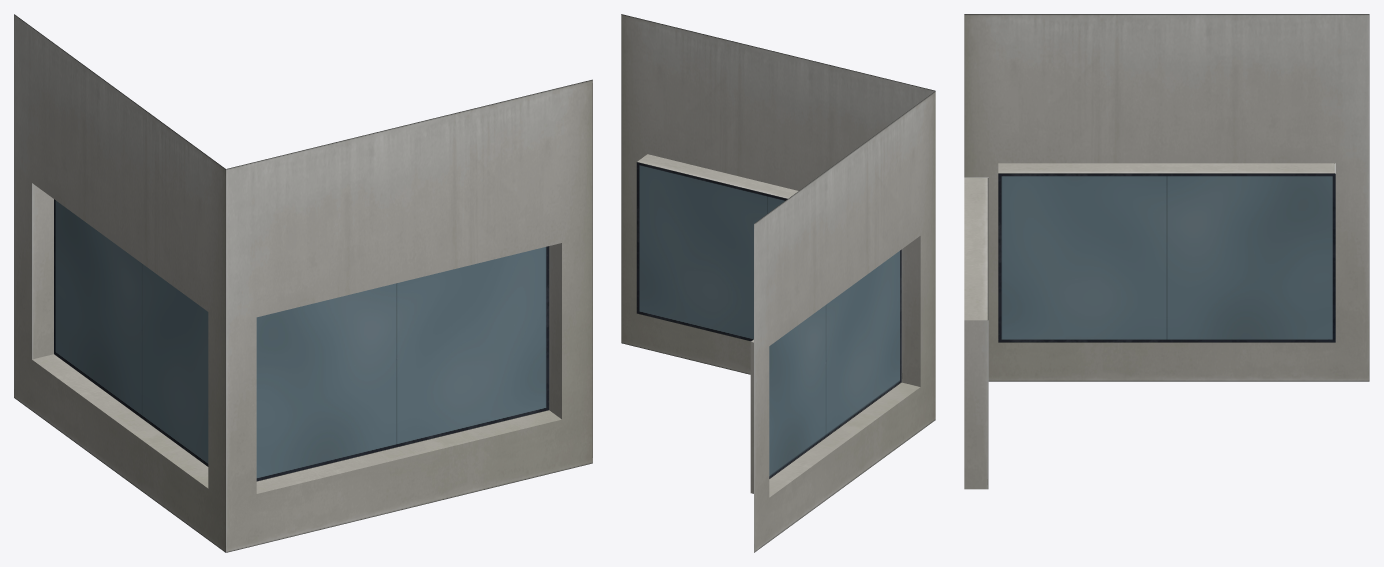
Rendered from corner_window_off_floor.gltf.
3 renders of one model, left to right at view 1: azimuth 30°, elevation 25°; view 2: azimuth 150°, elevation 25°; view 3: azimuth 270°, elevation 25°, orthographic. The views are drawn at different scales.
Visible parts, largest first — view 1: corner_window_off_floor; view 2: corner_window_off_floor; view 3: corner_window_off_floor.
Boxes of the visible parts, left/top/right/bottom form: corner_window_off_floor: left=14, top=14, right=592, bottom=552; corner_window_off_floor: left=621, top=14, right=935, bottom=552; corner_window_off_floor: left=964, top=14, right=1369, bottom=489.
Bounding box in the file's own units: 5 × 5 × 5.
Materials: 2 (2 with a texture image).
